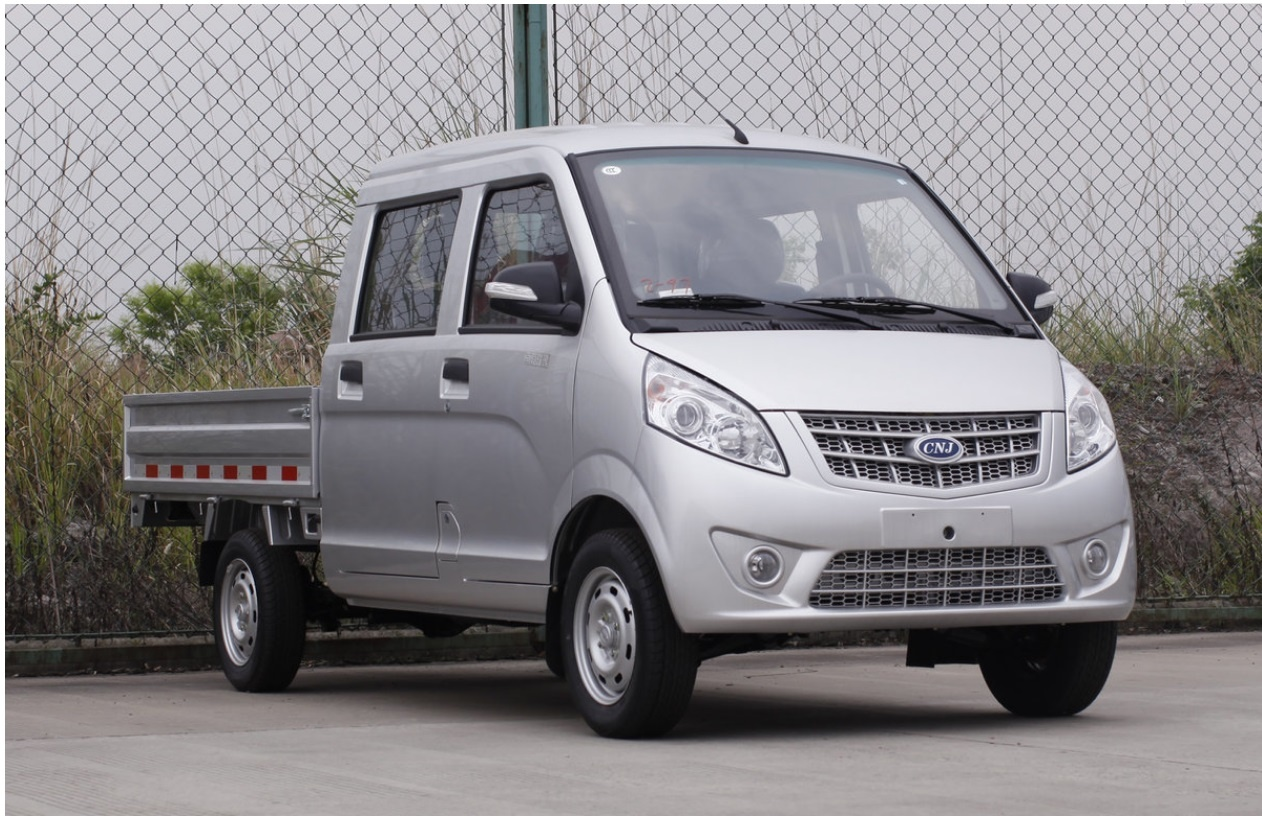truck: (131, 105, 1146, 735)
